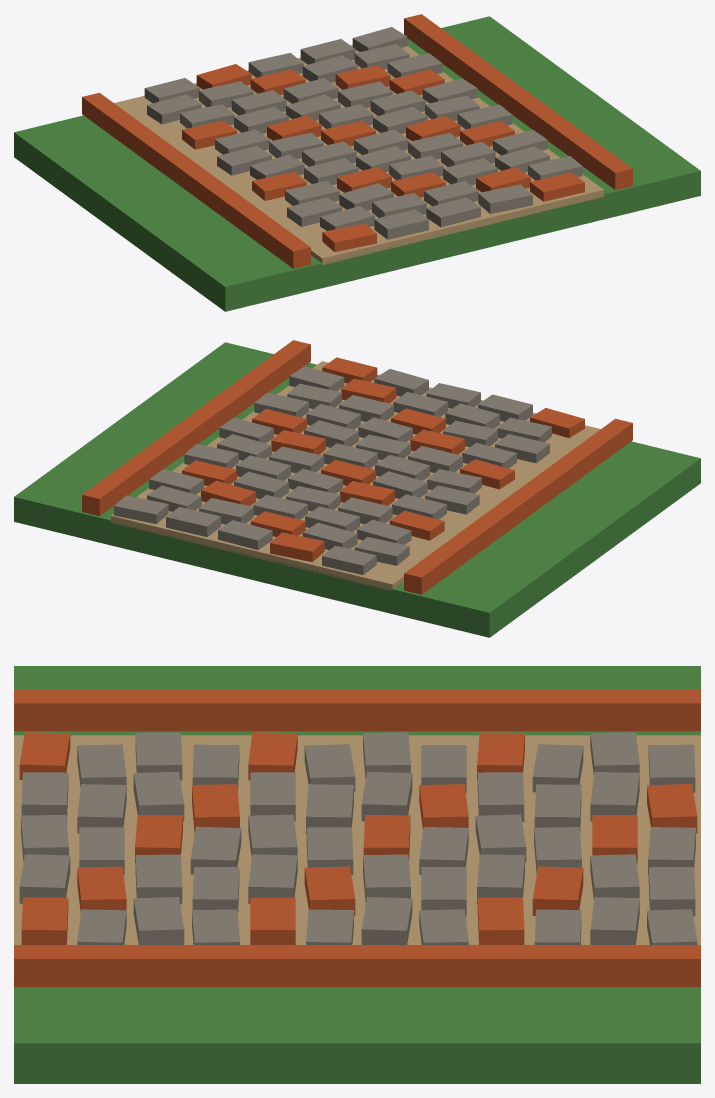
File: stone_road.glb
3 views of the same model, one above another, from view 1: azimuth 30°, elevation 25°; view 2: azimuth 150°, elevation 25°; view 3: azimuth 270°, elevation 25° (orthographic). The views are drawn at different scales.
Parts seen in each view (by area): view 1: TerrainBase, RoadBed, RoadEdge, RoadEdge.001, RoadStone.001, RoadStone.003, RoadStone, RoadStone.004, RoadStone.002, RoadStone.030, RoadStone.010, RoadStone.050 (+52 smaller); view 2: TerrainBase, RoadBed, RoadEdge, RoadEdge.001, RoadStone.056, RoadStone.058, RoadStone.059, RoadStone.055, RoadStone.057, RoadStone.040, RoadStone.050, RoadStone (+52 smaller); view 3: TerrainBase, RoadBed, RoadEdge, RoadEdge.001, RoadStone.014, RoadStone.034, RoadStone.054, RoadStone.044, RoadStone.004, RoadStone.024, RoadStone.003, RoadStone.031 (+52 smaller).
Part boxes in pixels (bbox=[...]): TerrainBase: bbox=[14, 16, 700, 311]; RoadBed: bbox=[114, 45, 603, 265]; RoadEdge: bbox=[82, 92, 310, 268]; RoadEdge.001: bbox=[404, 14, 632, 190]; RoadStone.001: bbox=[374, 209, 428, 239]; RoadStone.003: bbox=[478, 184, 532, 213]; RoadStone: bbox=[322, 223, 376, 252]; RoadStone.004: bbox=[530, 172, 584, 201]; RoadStone.002: bbox=[426, 197, 480, 227]; RoadStone.030: bbox=[217, 146, 271, 175]; RoadStone.010: bbox=[287, 197, 341, 226]; RoadStone.050: bbox=[147, 94, 201, 124]; TerrainBase: bbox=[14, 342, 700, 637]; RoadBed: bbox=[111, 361, 600, 590]; RoadEdge: bbox=[404, 418, 632, 594]; RoadEdge.001: bbox=[82, 340, 310, 516]; RoadStone.056: bbox=[270, 532, 324, 562]; RoadStone.058: bbox=[166, 506, 220, 536]; RoadStone.059: bbox=[114, 495, 168, 523]; RoadStone.055: bbox=[322, 545, 376, 574]; RoadStone.057: bbox=[218, 520, 272, 549]; RoadStone.040: bbox=[389, 510, 444, 540]; RoadStone.050: bbox=[354, 537, 409, 565]; RoadStone: bbox=[530, 408, 584, 438]; TerrainBase: bbox=[14, 666, 700, 1083]; RoadBed: bbox=[14, 735, 700, 944]; RoadEdge: bbox=[14, 689, 700, 731]; RoadEdge.001: bbox=[14, 945, 700, 986]; RoadStone.014: bbox=[133, 897, 184, 944]; RoadStone.034: bbox=[361, 897, 412, 944]; RoadStone.054: bbox=[590, 897, 639, 944]; RoadStone.044: bbox=[477, 897, 524, 944]; RoadStone.004: bbox=[21, 897, 68, 944]; RoadStone.024: bbox=[250, 897, 295, 944]; RoadStone.003: bbox=[19, 854, 70, 903]; RoadStone.031: bbox=[361, 771, 412, 821].
Bounding box in the file's own units: 13 × 1.14 × 10.
